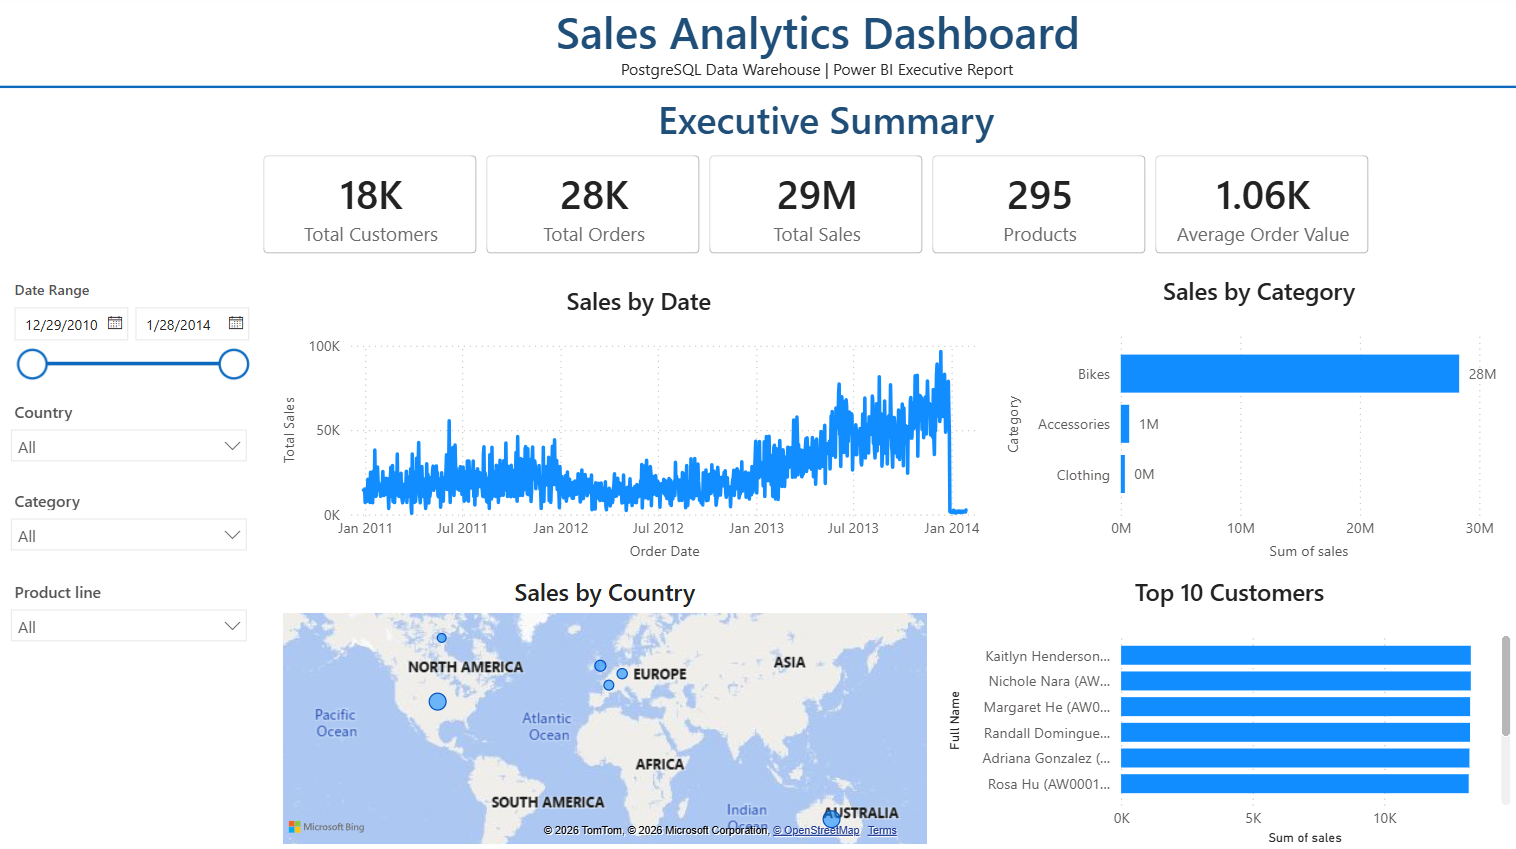

The page's visual inventory and layout, read from the dashboard file:
{"tool":"powerbi","page":{"name":"Executive Summary","canvas":[1280,720],"ordinal":0},"visuals":[{"type":"textbox","box":[9.9,0,180,32.2],"z":0},{"type":"cardVisual","fields":{"Data":["gold dim_customers.Total Customers","gold fact_sales.Total Orders","gold fact_sales.Total Sales","gold dim_products.Products","gold fact_sales.Average Order Value"]},"box":[206,117.3,967.2,117.3],"z":1000},{"type":"lineChart","title":"Sales by Date","fields":{"Category":["gold fact_sales.order_date"],"Y":["gold fact_sales.Total Sales"]},"box":[234.6,242.7,609.9,237.3],"z":2000},{"type":"clusteredBarChart","title":"Sales by Category","fields":{"Category":["gold dim_products.category"],"Y":["Sum(gold fact_sales.sales)"]},"box":[844.5,234.6,435.2,245.4],"z":3000},{"type":"map","title":"Sales by Country","fields":{"Category":["gold dim_customers.country"],"Size":["Sum(gold fact_sales.sales)"]},"box":[234.6,488.1,552.5,231.9],"z":4000},{"type":"clusteredBarChart","title":"Top 10 Customers","fields":{"Category":["gold dim_customers.Full Name"],"Y":["Sum(gold fact_sales.sales)"]},"box":[795.2,488.1,484.5,231.9],"z":5000},{"type":"slicer","title":"Data","fields":{"Values":["gold fact_sales.order_date"]},"box":[0,234.6,219.4,102.1],"z":6000},{"type":"slicer","fields":{"Values":["gold dim_customers.country"]},"box":[0,336.7,219.4,69],"z":7000},{"type":"slicer","fields":{"Values":["gold dim_products.category"]},"box":[0,411,219.4,69],"z":8000},{"type":"slicer","fields":{"Values":["gold dim_products.product_line"]},"box":[0,488.1,219.4,69],"z":9000},{"type":"textbox","box":[460.3,0,460.3,64.5],"z":10000},{"type":"textbox","box":[550.7,77,293.7,64.5],"z":11000},{"type":"shape","box":[0,64.5,1279.7,25.1],"z":12000},{"type":"textbox","box":[514.9,47.5,349.3,29.6],"z":13000}]}

Visuals, with their boxes in screenshot pixels (x1, y1, x2, y2), scaled from the page's 1280x720 canvas onto the 1516x849 screenshot:
textbox: detection(12, 0, 225, 38)
cardVisual - gold dim_customers.Total Customers x gold fact_sales.Total Orders: detection(244, 138, 1390, 277)
"Sales by Date" lineChart: detection(278, 286, 1000, 566)
"Sales by Category" clusteredBarChart: detection(1000, 277, 1515, 566)
"Sales by Country" map: detection(278, 576, 932, 848)
"Top 10 Customers" clusteredBarChart: detection(942, 576, 1515, 848)
"Data" slicer: detection(0, 277, 260, 397)
slicer - gold dim_customers.country: detection(0, 397, 260, 478)
slicer - gold dim_products.category: detection(0, 485, 260, 566)
slicer - gold dim_products.product_line: detection(0, 576, 260, 657)
textbox: detection(545, 0, 1090, 76)
textbox: detection(652, 91, 1000, 167)
shape: detection(0, 76, 1515, 106)
textbox: detection(610, 56, 1024, 91)
